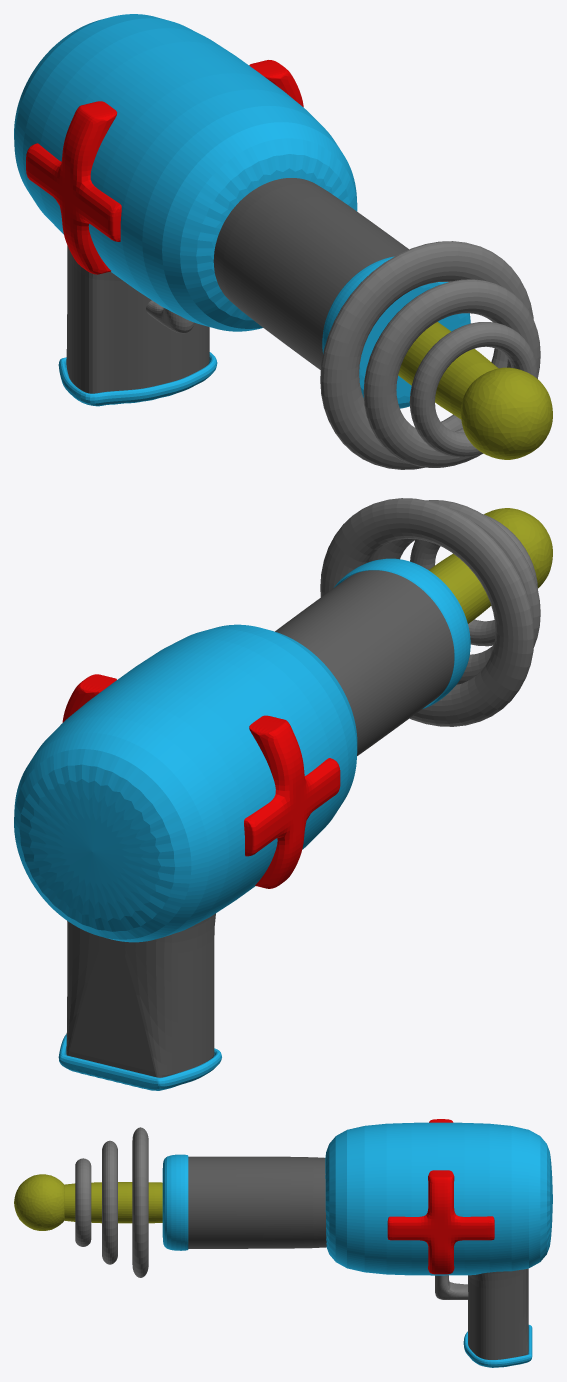
Rendered from Medray Gun.fbx.
3 views of the same model, one above another, from view 1: azimuth 30°, elevation 25°; view 2: azimuth 150°, elevation 25°; view 3: azimuth 270°, elevation 25° (orthographic). The views are drawn at different scales.
Parts seen in each view (by area): view 1: Part 2.002, Part 1, Torus.000, Part 2, Torus.001, Cube, Rod Circle, Torus.004, Rod?, Part 1.001, Part 2.001, Trigger; view 2: Part 2.002, Part 2, Part 1, Torus.000, Cube, Part 1.001, Torus.001, Part 2.001, Rod Circle, Rod?, Torus.004; view 3: Part 2.002, Part 1, Part 2, Cube, Part 1.001, Torus.000, Rod Circle, Rod?, Torus.001, Torus.004, Part 2.001, Trigger.
Boxes of the visible parts, box(x1,y1,x2,y2) form: Part 2.002: box(14, 14, 357, 331); Part 1: box(213, 178, 408, 370); Torus.000: box(320, 241, 533, 469); Part 2: box(66, 245, 209, 393); Torus.001: box(363, 279, 540, 467); Cube: box(26, 60, 303, 274); Rod Circle: box(461, 367, 552, 459); Torus.004: box(409, 322, 537, 457); Rod?: box(398, 322, 498, 419); Part 1.001: box(322, 256, 470, 408); Part 2.001: box(58, 352, 217, 406); Trigger: box(146, 300, 194, 333); Part 2.002: box(14, 624, 357, 942); Part 2: box(66, 913, 215, 1077); Part 1: box(275, 570, 454, 755); Torus.000: box(320, 498, 534, 726); Cube: box(62, 674, 340, 888); Part 1.001: box(334, 558, 470, 708); Torus.001: box(367, 500, 540, 684); Part 2.001: box(58, 1034, 221, 1090); Rod Circle: box(484, 508, 552, 588); Rod?: box(428, 554, 491, 623); Torus.004: box(410, 514, 537, 646); Part 2.002: box(325, 1122, 552, 1275); Part 1: box(188, 1156, 326, 1248); Part 2: box(468, 1268, 528, 1359); Cube: box(387, 1119, 494, 1274); Part 1.001: box(162, 1154, 188, 1250); Torus.000: box(132, 1127, 148, 1277); Rod Circle: box(14, 1174, 64, 1230); Rod?: box(64, 1182, 162, 1223); Torus.001: box(102, 1140, 117, 1264); Torus.004: box(75, 1158, 91, 1246); Part 2.001: box(463, 1325, 532, 1367); Trigger: box(435, 1275, 468, 1299).
Size of the model in its own units: 430 by 639 by 1410.
